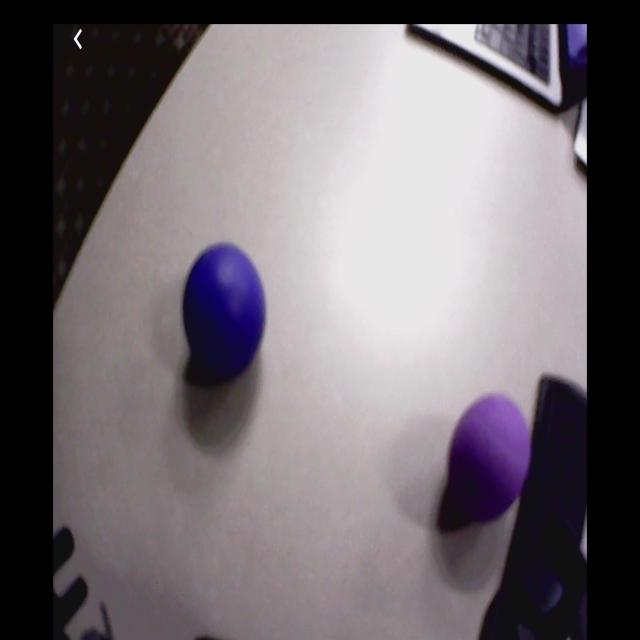ball: (448, 389, 531, 525), (184, 243, 268, 376)
